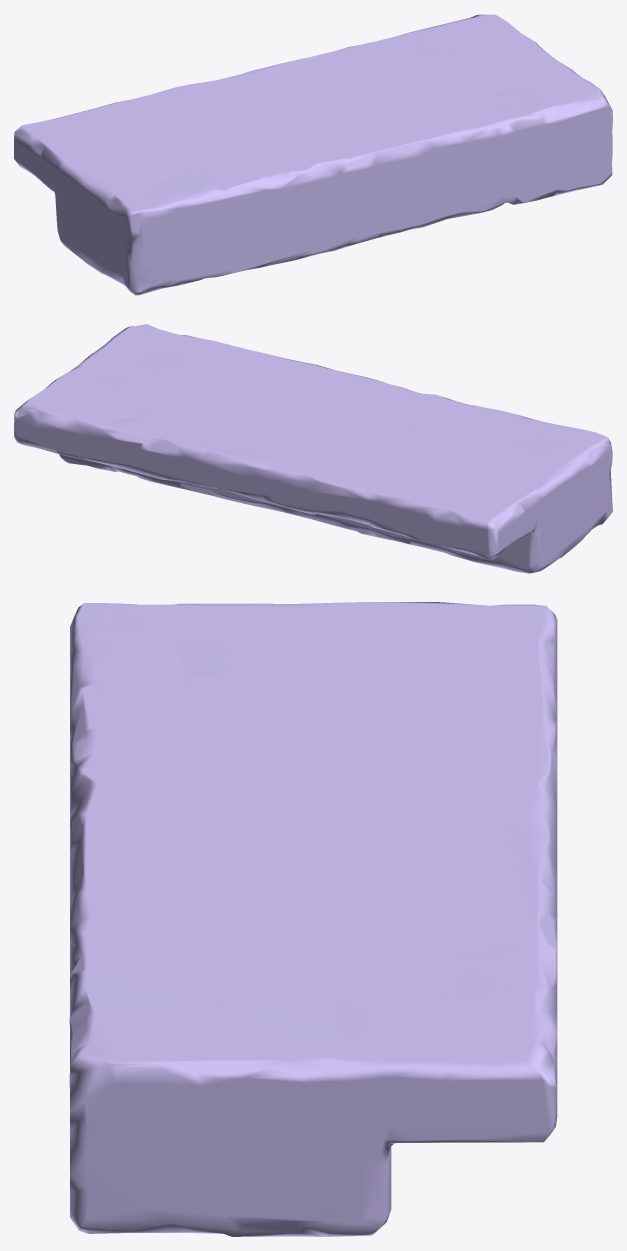
File: stone_tiles_l_ver2_LOD1.fbx
3 views of the same model, one above another, from view 1: azimuth 30°, elevation 25°; view 2: azimuth 150°, elevation 25°; view 3: azimuth 270°, elevation 25° (orthographic). The views are drawn at different scales.
Parts seen in each view (by area): view 1: Cube_009_LOD1; view 2: Cube_009_LOD1; view 3: Cube_009_LOD1.
Boxes of the visible parts, left/top/right/bottom form: Cube_009_LOD1: left=14, top=14, right=612, bottom=295; Cube_009_LOD1: left=14, top=324, right=612, bottom=573; Cube_009_LOD1: left=69, top=602, right=557, bottom=1236.
Size of the model in its own units: 162 by 28.05 by 70.96.
